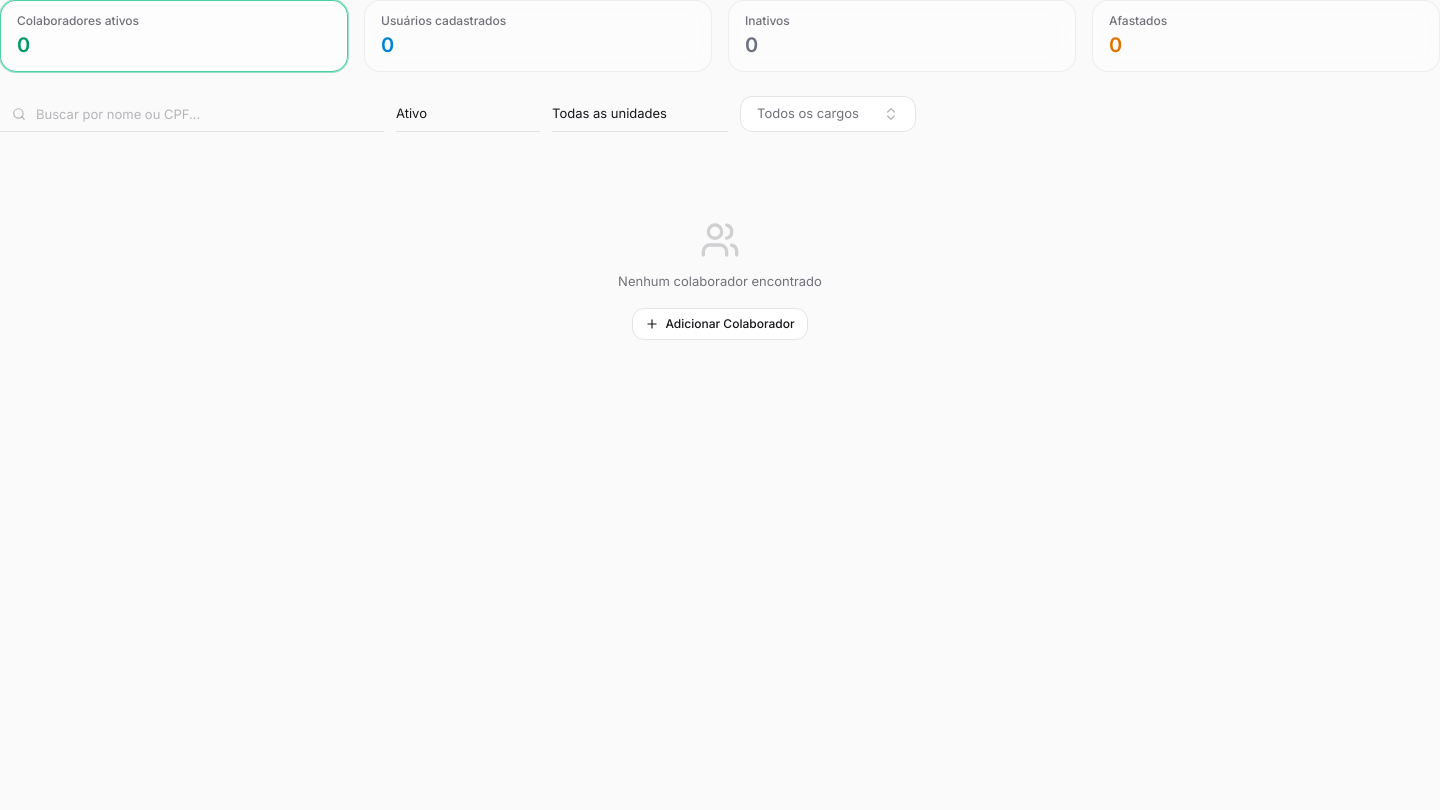
Test case: employees page › shows the empty state and create flow for users with write access
Expected: the text "Nenhum colaborador encontrado" is shown, [618,273,822,289]
Click the button "Adicionar Colaborador". click: (720, 324)
box: [632,308,808,340]
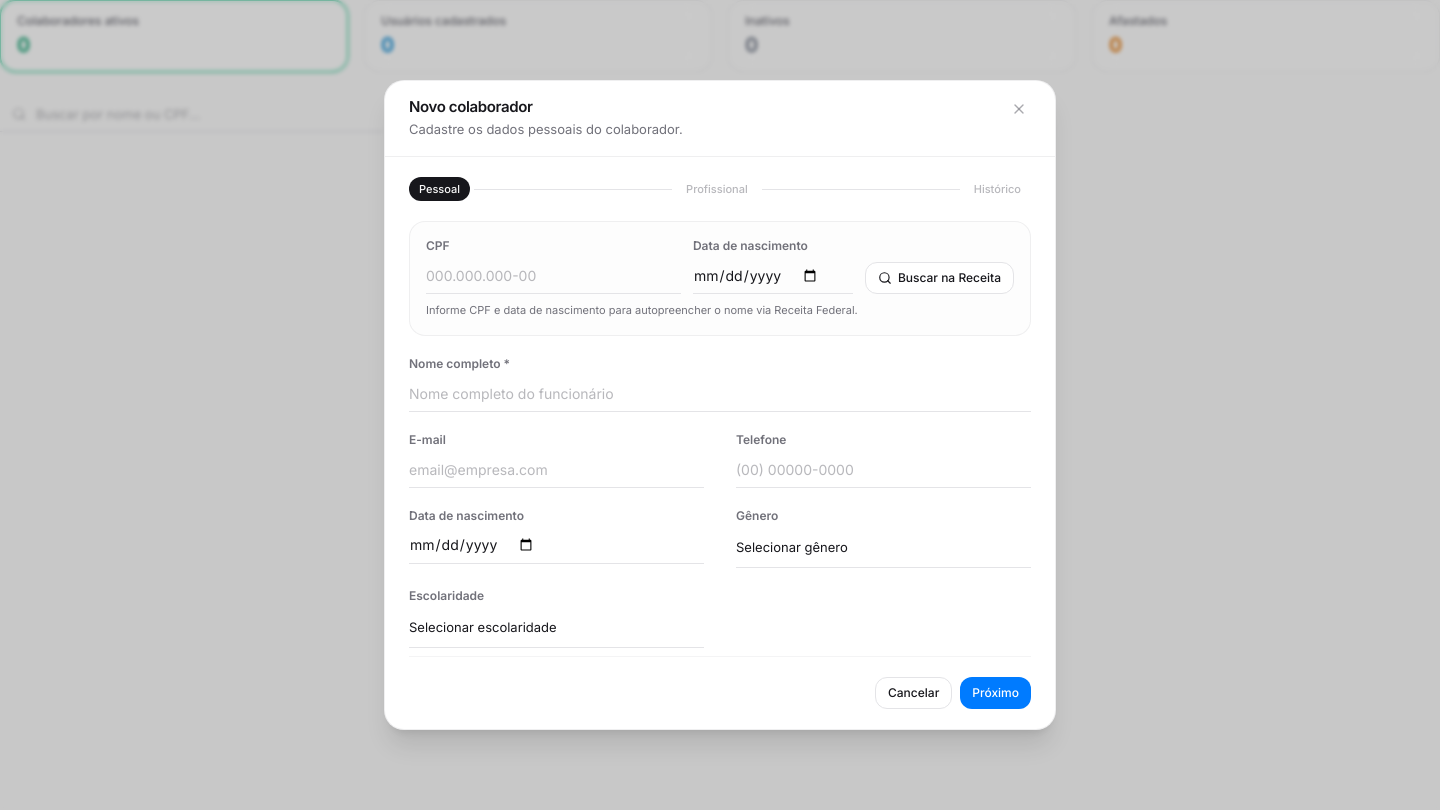
Expected: the heading "Novo colaborador" is shown, [409,97,532,116]
Expected: the button "Pessoal" is shown, [409,177,470,201]
Type "Maria da Silva" into the field with placeholder "Nome completo do funcionário". click: (720, 394)
box: [409,376,1031,412]
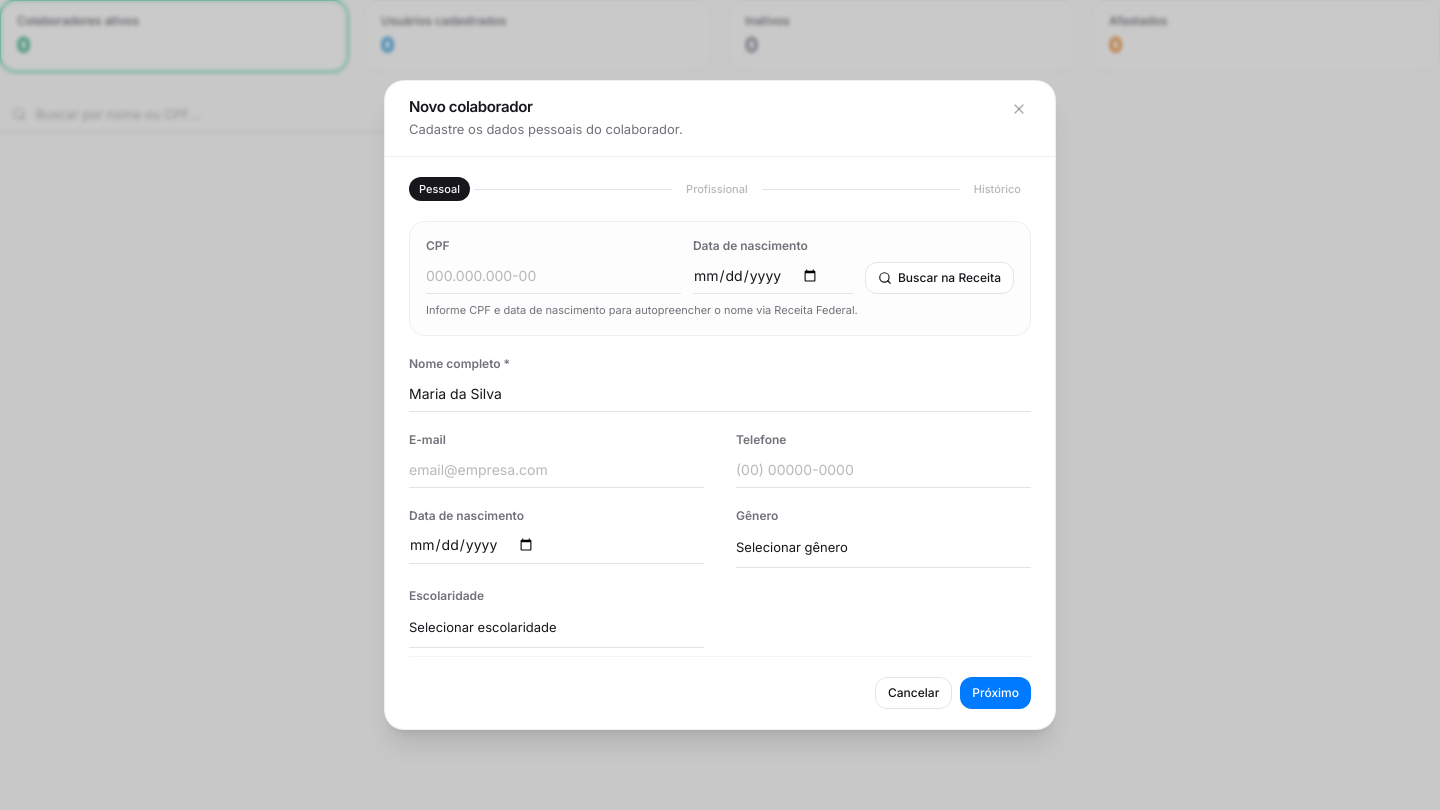
Click the button "Próximo". click: (996, 693)
box: [960,677,1031,709]
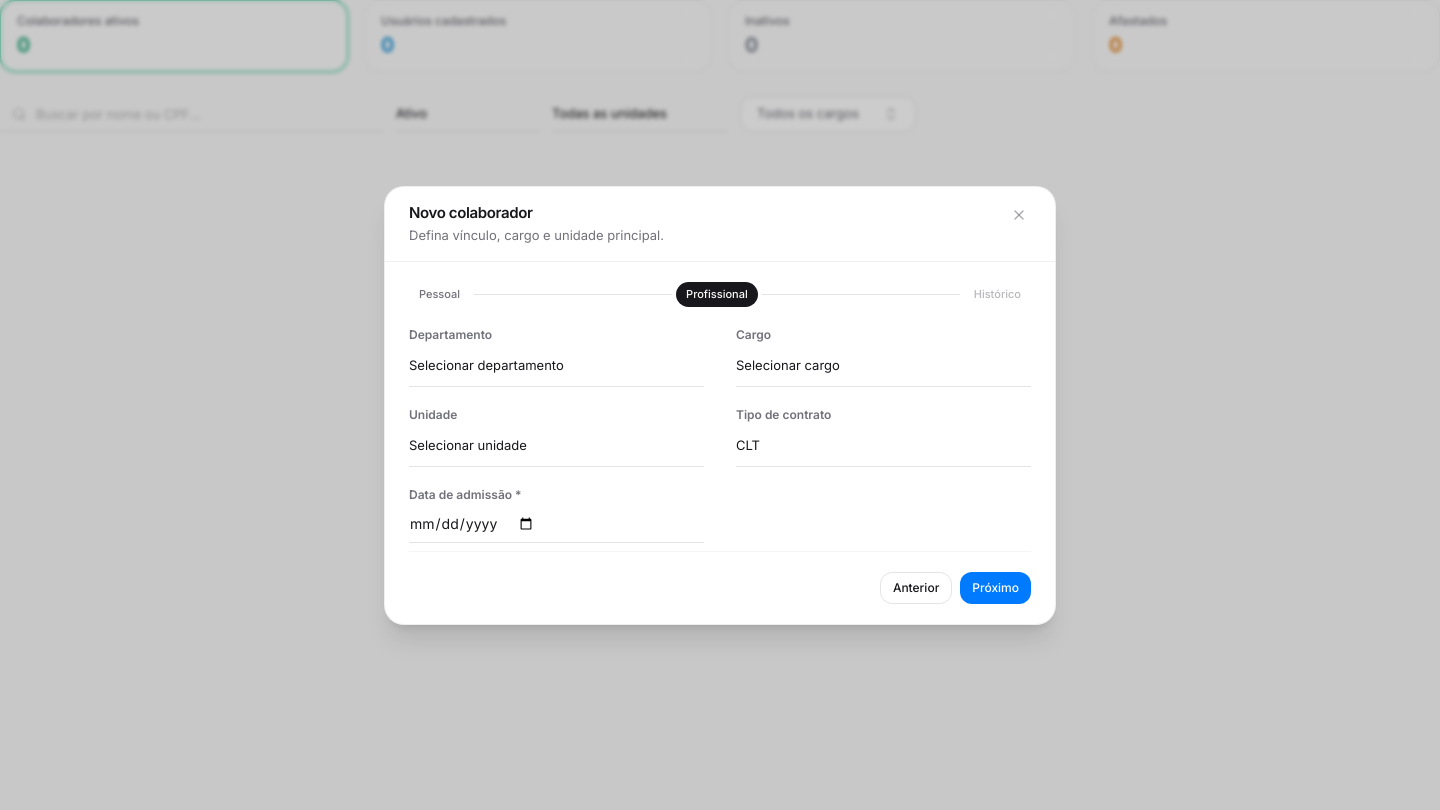
Expected: the text "Tipo de contrato" is shown, [736,406,831,422]
Expected: the date field is shown
Type "2024-01-10" into the date field. click: (556, 524)
box: [409,506,704,542]
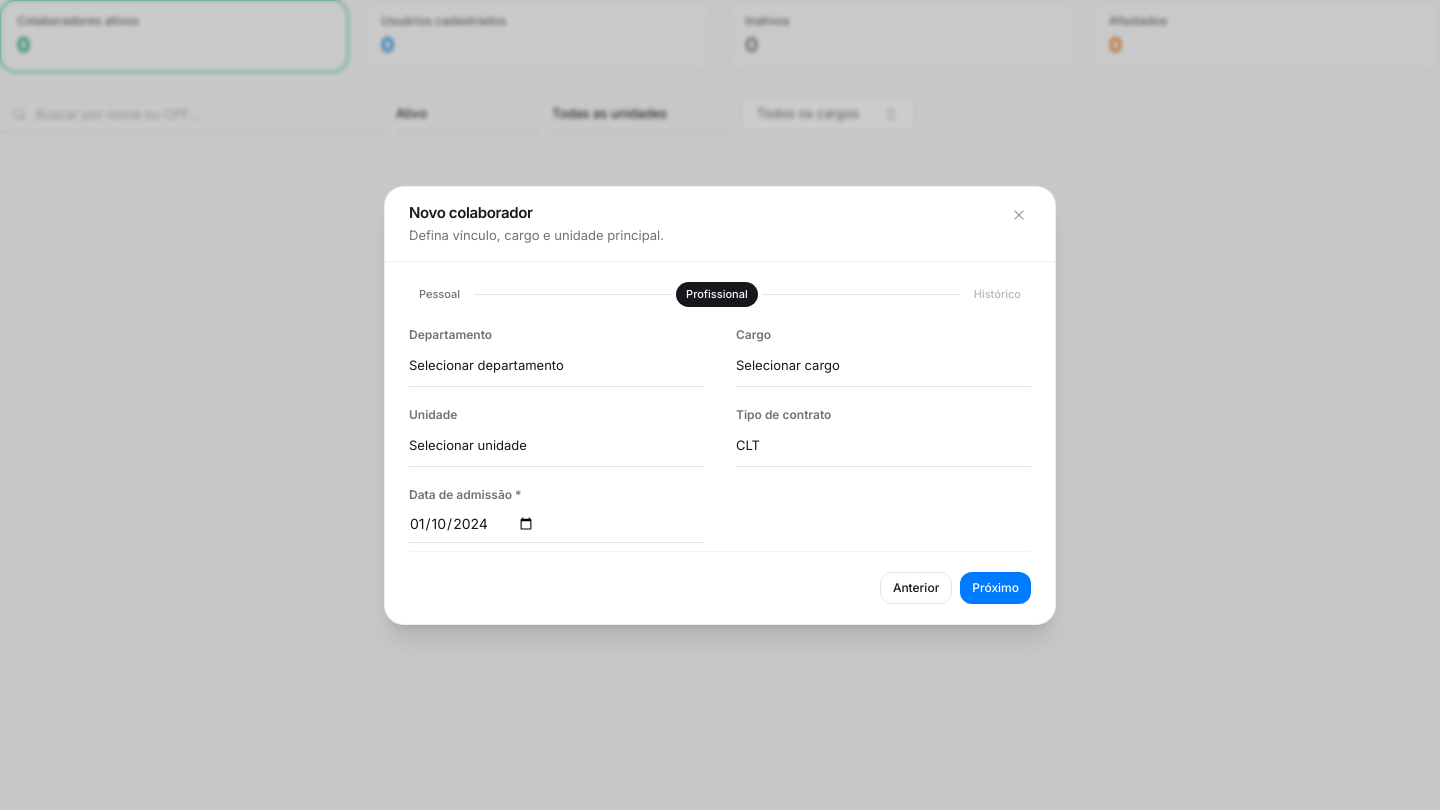
Click the button "Próximo". click: (996, 588)
box: [960,572,1031,604]
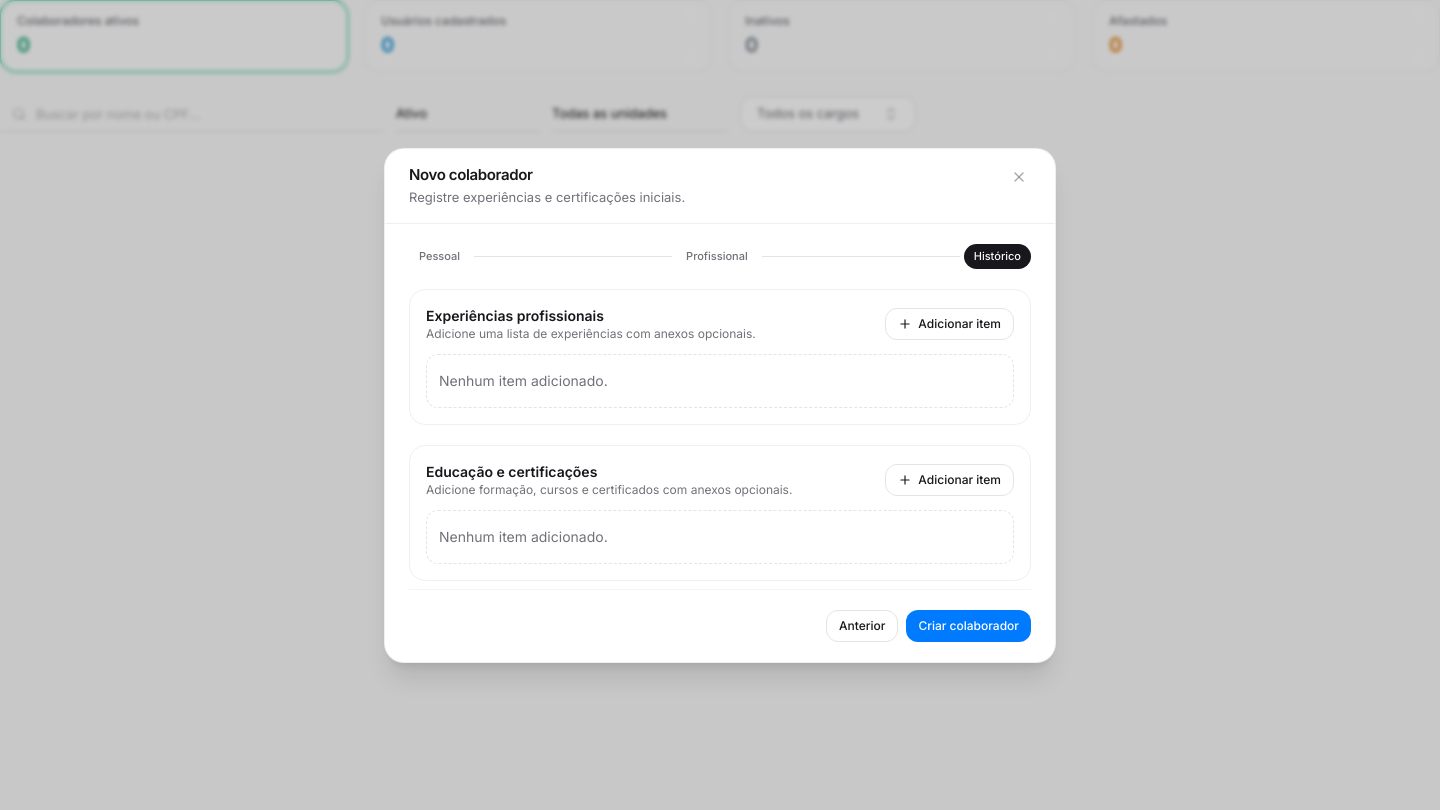
Expected: the text "Experiências profissionais" is shown, [426,306,604,324]
